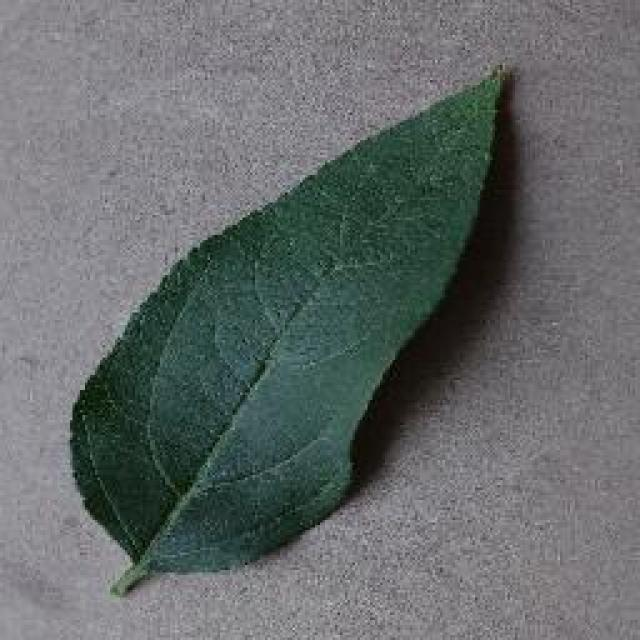apple healthy: (65, 57, 510, 595)
